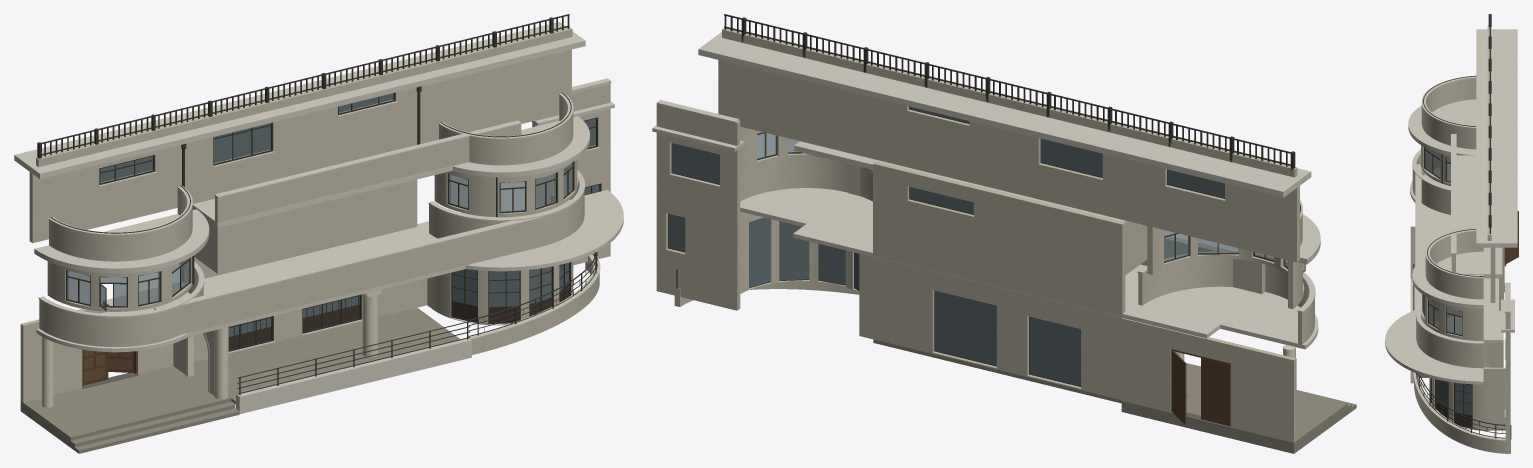
File: full-source.glb
3 renders of one model, left to right at view 1: azimuth 30°, elevation 25°; view 2: azimuth 150°, elevation 25°; view 3: azimuth 270°, elevation 25°, orthographic. The views are drawn at different scales.
Parts seen in each view (by area): view 1: 余庆路80号双圆阳光房花园立面; view 2: 余庆路80号双圆阳光房花园立面; view 3: 余庆路80号双圆阳光房花园立面.
Boxes of the visible parts, <box> form: 余庆路80号双圆阳光房花园立面: <box>14,14,623,453</box>; 余庆路80号双圆阳光房花园立面: <box>652,14,1356,453</box>; 余庆路80号双圆阳光房花园立面: <box>1385,14,1518,453</box>.
Bounding box in the file's own units: 24.95 × 10.97 × 6.07.
15 materials, 3 textured.
